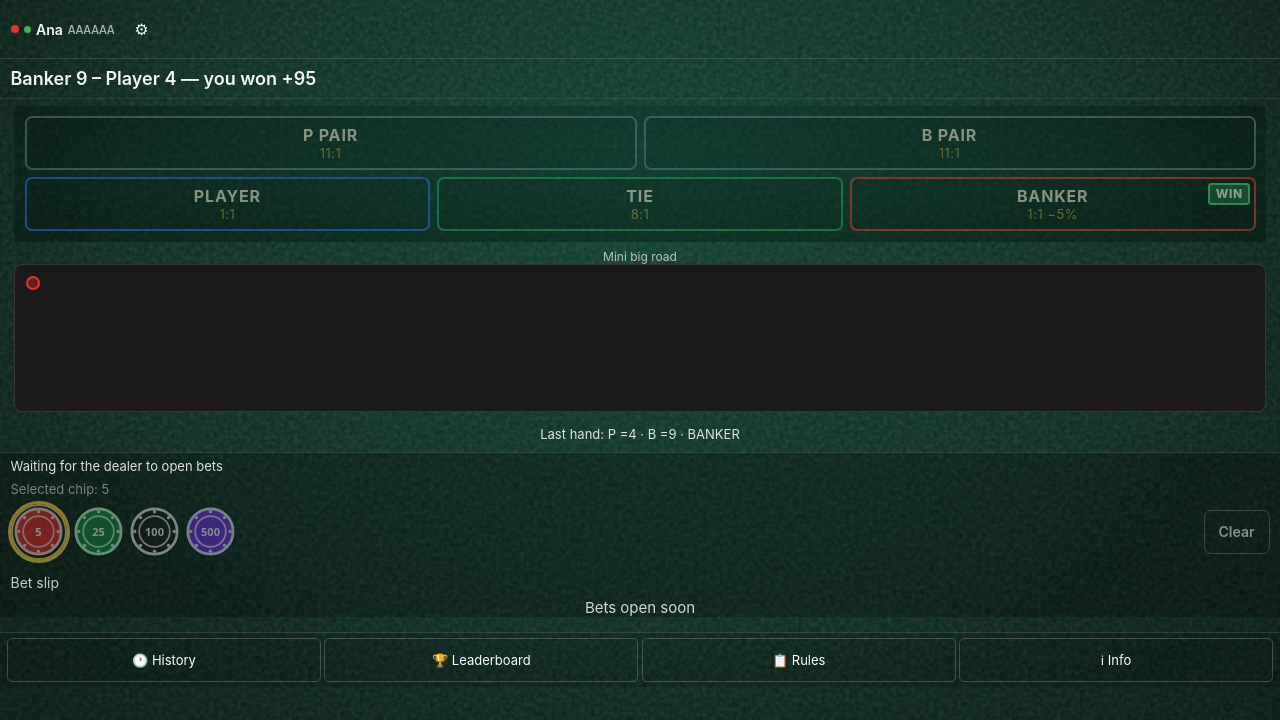
Test: PlayerShell › history shows would pay in declared-bets mode
The width and height of the screenshot is (1280, 720).
Click the tab "🕐 History" at coordinates (164, 660), box [7,638,321,682]
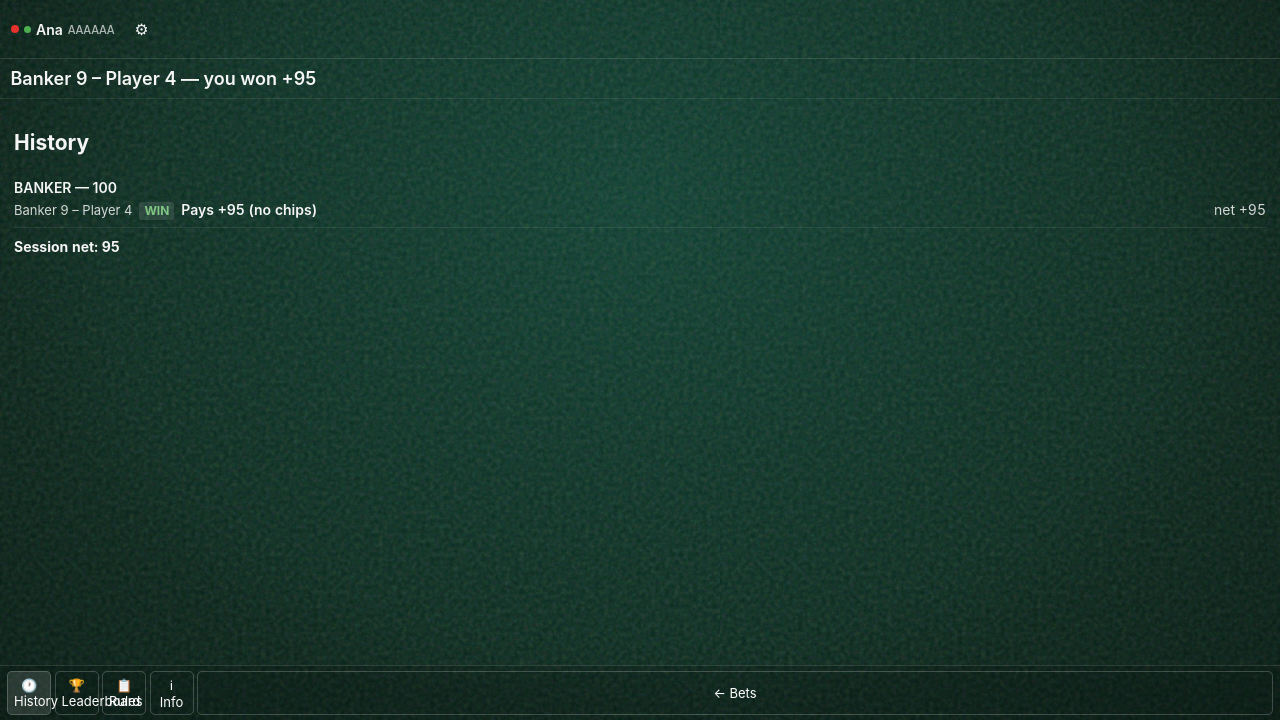
Expected: the text with test id "player-history-profit-b1" reads "Pays +95 (no chips)", [181,201,317,218]
